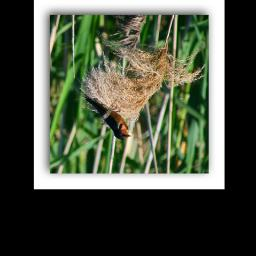Swallow: (79, 92, 133, 142)
